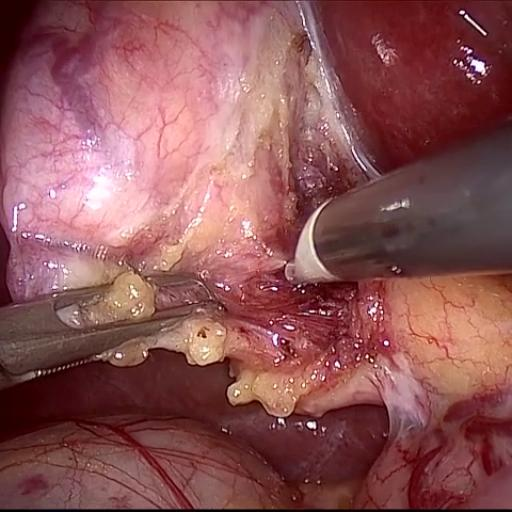Grasper: (0, 224, 230, 395)
Hook: (242, 151, 364, 307)
